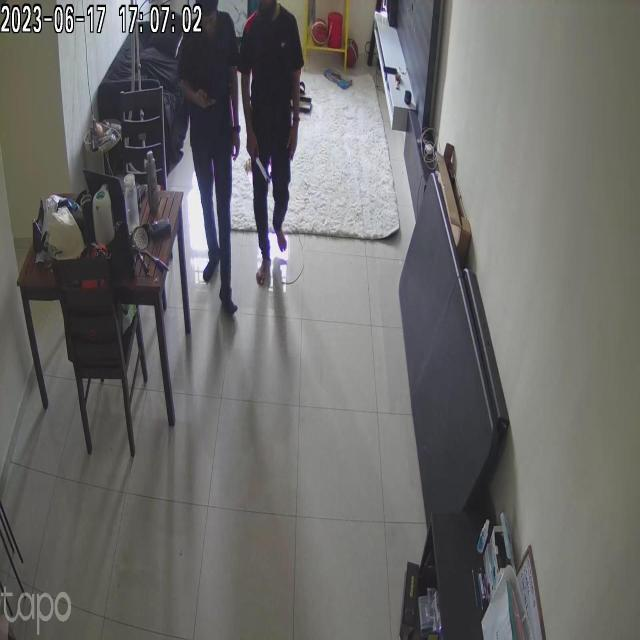Knife: (252, 148, 276, 188)
